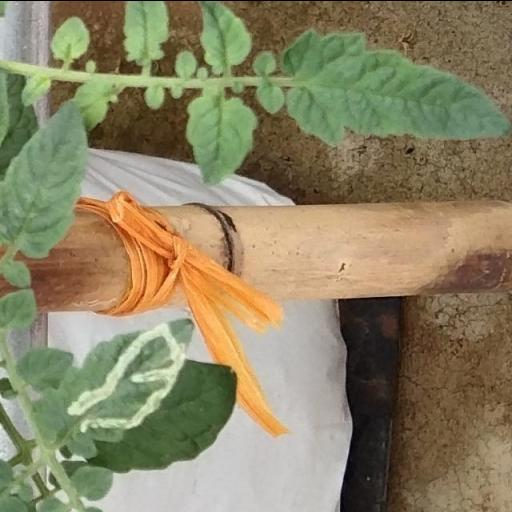disease_tomato: (27, 316, 196, 458)
